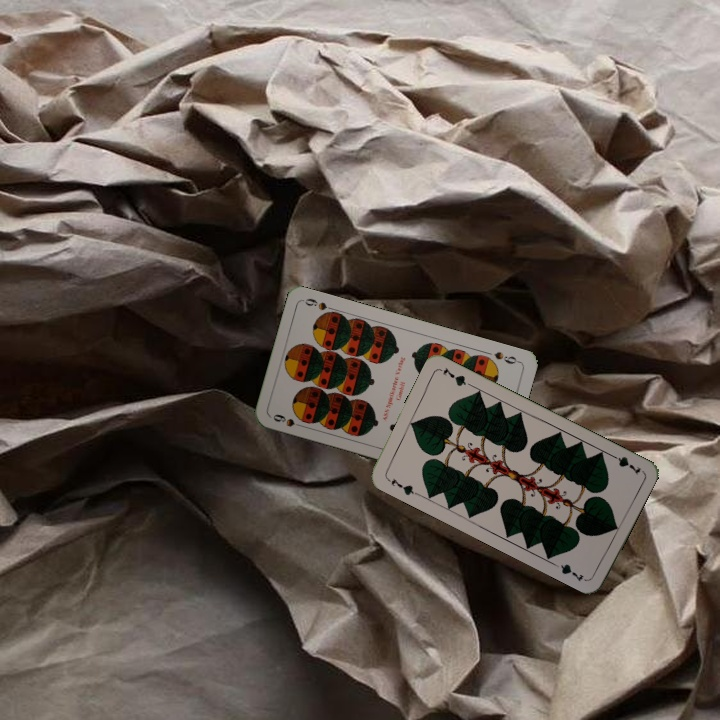G7: (606, 450, 644, 478), (383, 474, 420, 498)
S9: (269, 410, 308, 430), (490, 347, 522, 367)
